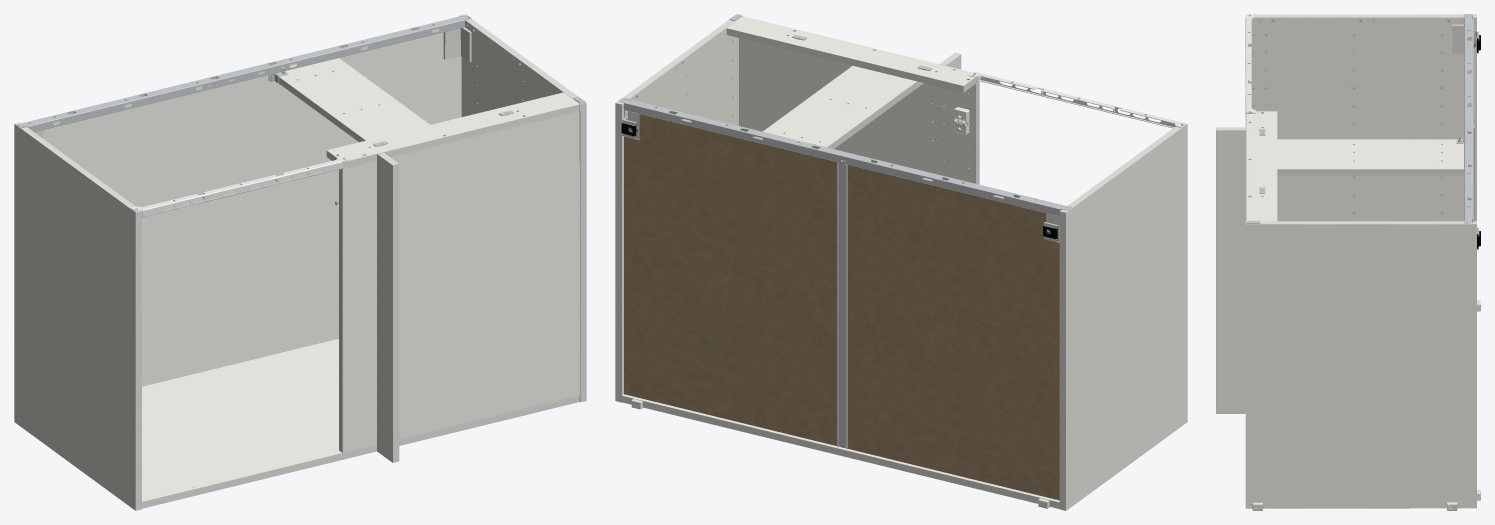
Rendered from metod_narozna_szafka_stojaca_40596753.glb.
The picture shows the model from 3 angles, left to right: view 1: azimuth 30°, elevation 25°; view 2: azimuth 150°, elevation 25°; view 3: azimuth 270°, elevation 25°; orthographic projection. The views are drawn at different scales.
Parts seen in each view (by area): view 1: metod_narozna_szafka_stojaca_40596753; view 2: metod_narozna_szafka_stojaca_40596753; view 3: metod_narozna_szafka_stojaca_40596753.
Part boxes in pixels (box(x1,y1,x2,y2)): metod_narozna_szafka_stojaca_40596753: box(14, 14, 586, 510); metod_narozna_szafka_stojaca_40596753: box(615, 14, 1187, 510); metod_narozna_szafka_stojaca_40596753: box(1216, 14, 1480, 510).
Size of the model in its own units: 1.28 by 0.8044 by 0.675.
1 material, 1 textured.
